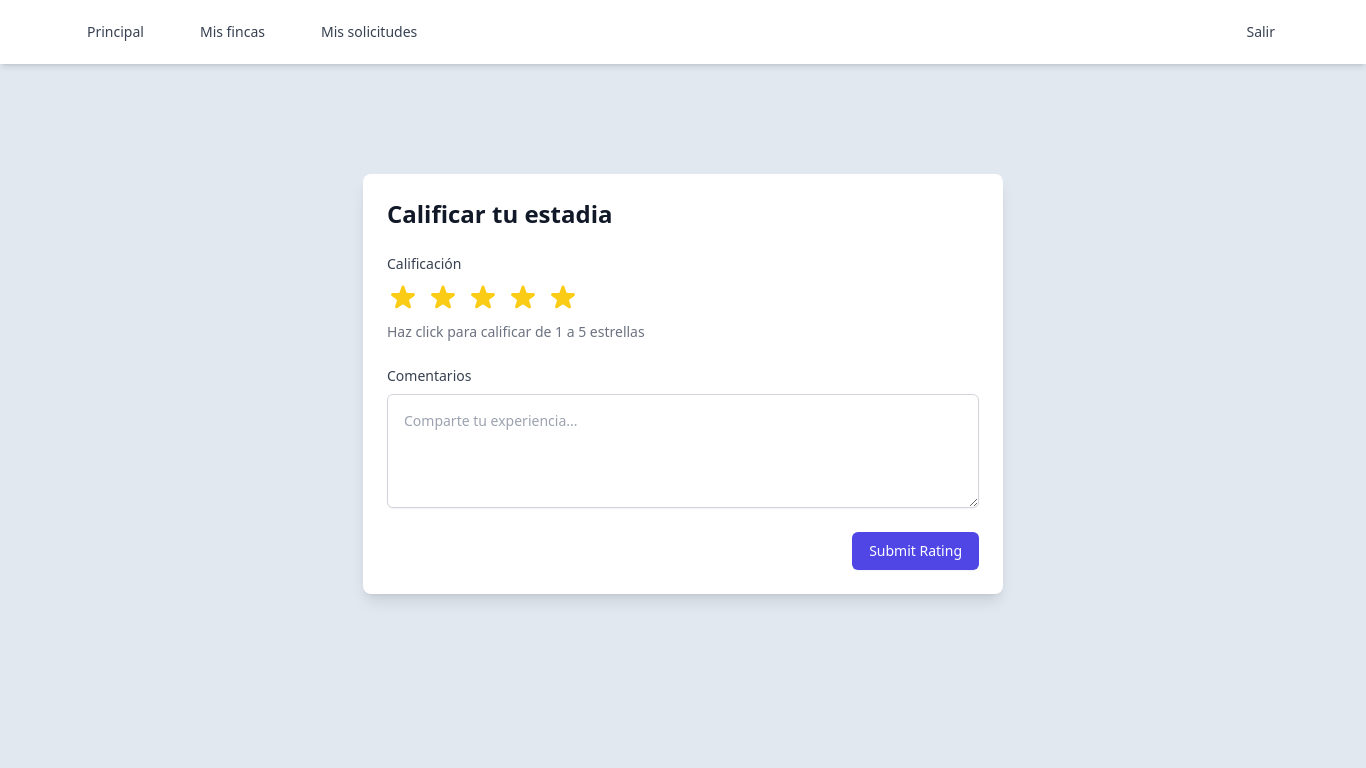
Test case: Rating Component › Form Validation › should require comments
Try to submit without comments
Click the button "Submit Rating". click: (916, 551)
box: [852,532,979,570]
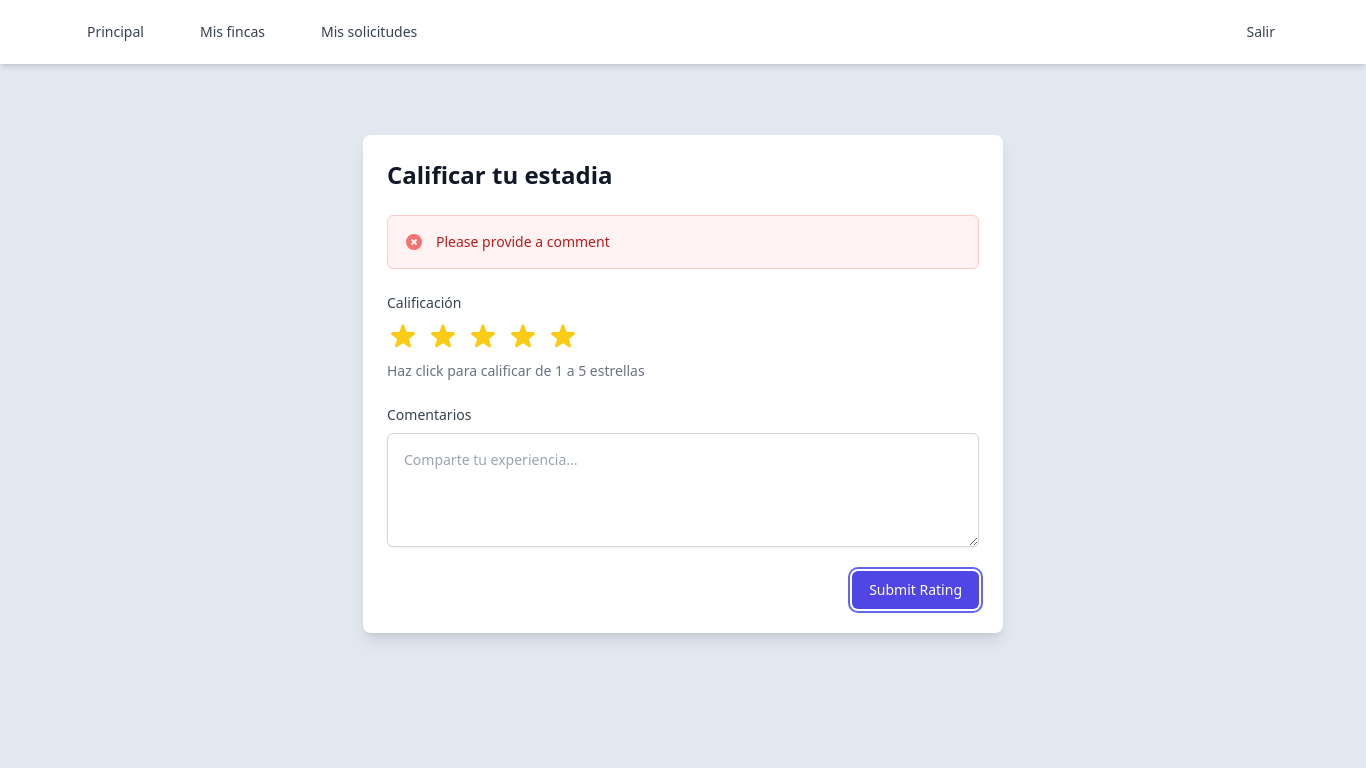
Expected: the text "Please provide a comment" is shown, [436,232,610,252]
